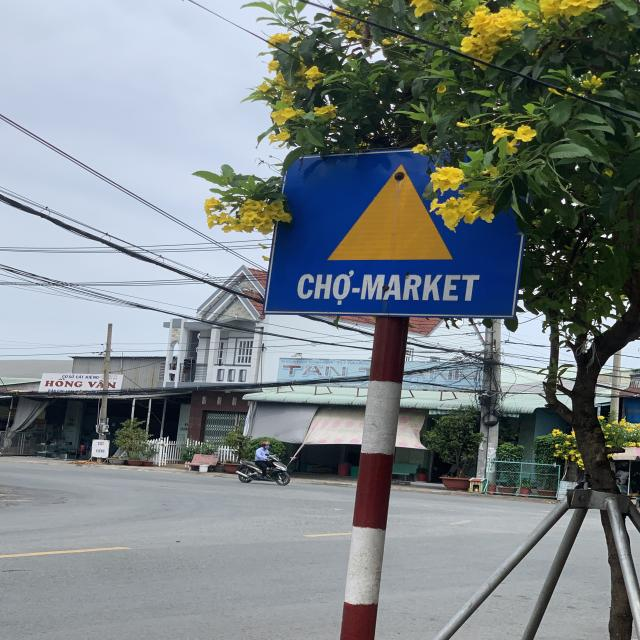Cho_Quay_Xe: (264, 147, 520, 319)
